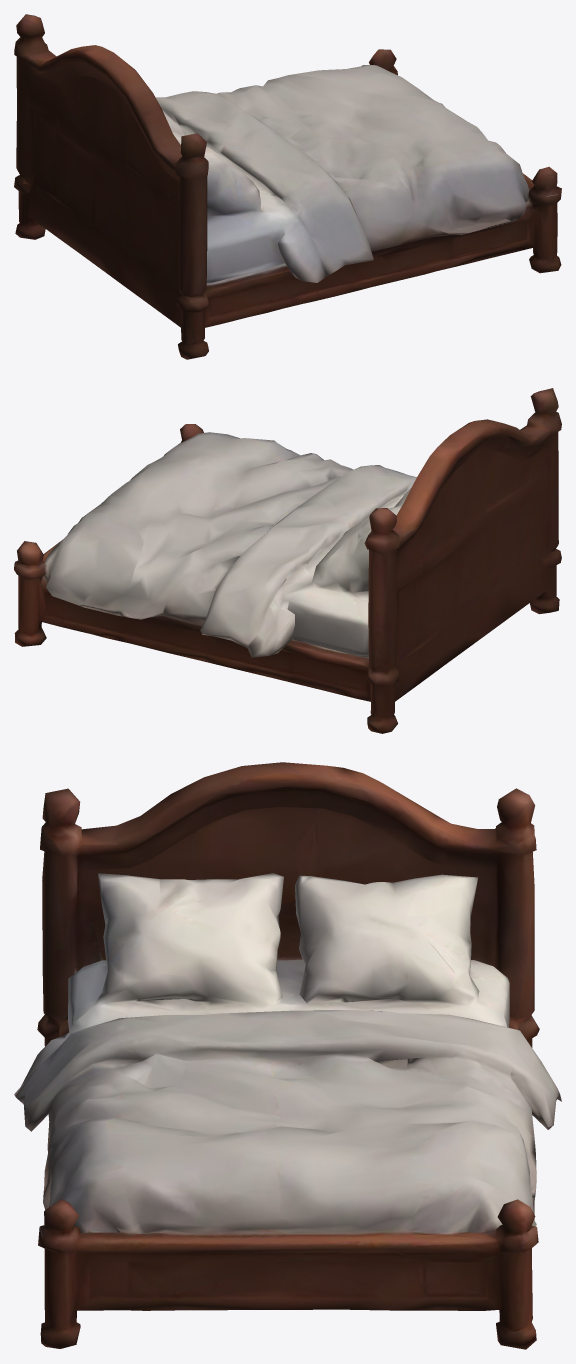
File: bed.glb
3 renders of one model, top to bottom at view 1: azimuth 30°, elevation 25°; view 2: azimuth 150°, elevation 25°; view 3: azimuth 270°, elevation 25°, orthographic. The views are drawn at different scales.
Visible parts, largest first — view 1: tripo_node_1065436e-3cec-4455-9764-b07640c0ba5e; view 2: tripo_node_1065436e-3cec-4455-9764-b07640c0ba5e; view 3: tripo_node_1065436e-3cec-4455-9764-b07640c0ba5e.
Boxes of the visible parts, x1,y1,x2,y2 form: tripo_node_1065436e-3cec-4455-9764-b07640c0ba5e: (14,14,561,359); tripo_node_1065436e-3cec-4455-9764-b07640c0ba5e: (14,388,561,733); tripo_node_1065436e-3cec-4455-9764-b07640c0ba5e: (14,762,561,1349).
Bounding box in the file's own units: 1 × 0.5912 × 0.8842.
1 material, 1 textured.
